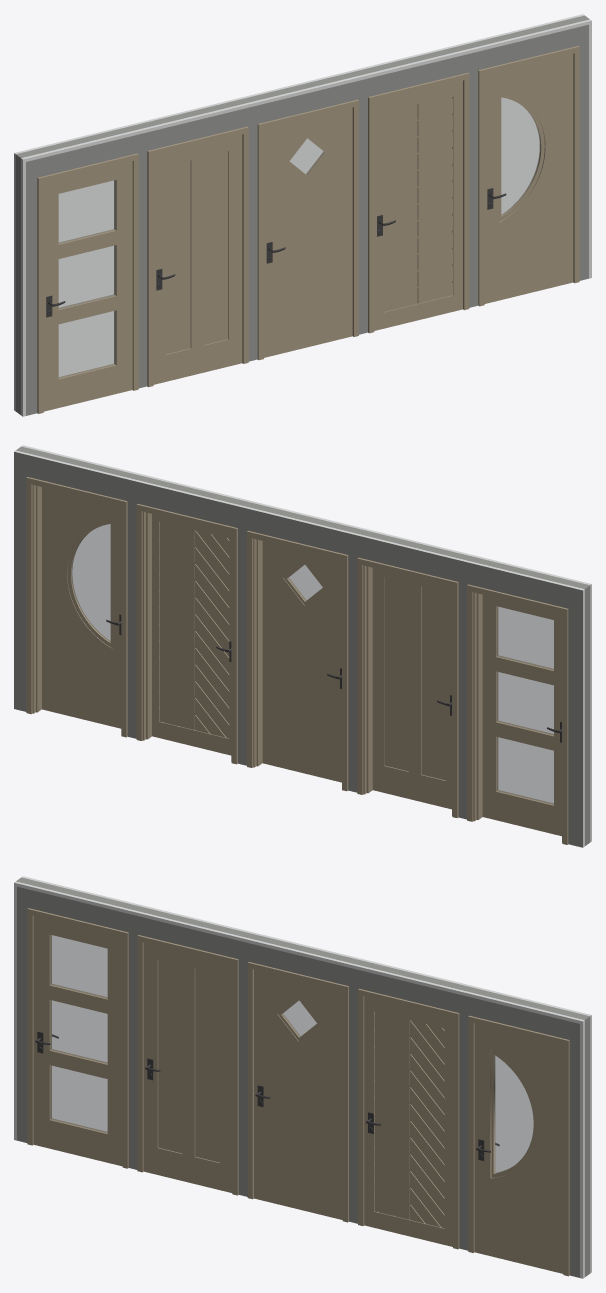
The model's file is MUZEY.fbx.
3 renders of one model, top to bottom at view 1: azimuth 30°, elevation 25°; view 2: azimuth 150°, elevation 25°; view 3: azimuth 330°, elevation 25°, orthographic.
Parts seen in each view (by area): view 1: 15:1:1, 18:19:5, 17:19:5, 20:19:5, 16:24:5, 16:19:5, 19:19:5, 20:20:5, Box001, 19:20:5, 16:20:5, 19:21:5 (+41 smaller); view 2: 15:1:1, 18:19:5, 17:19:5, 20:19:5, 16:24:5, 16:19:5, 20:20:5, 19:19:5, 19:20:5, 19:21:5, 16:20:5, 18:5:5 (+48 smaller); view 3: 15:1:1, 18:19:5, 17:19:5, 20:19:5, 16:24:5, 16:19:5, 19:19:5, 20:20:5, Box001, 19:20:5, 16:20:5, 19:21:5 (+44 smaller).
Boxes of the visible parts, x1=… form: 15:1:1: x1=15, y1=15, x2=589, y2=415; 18:19:5: x1=264, y1=108, x2=351, y2=357; 17:19:5: x1=154, y1=135, x2=240, y2=384; 20:19:5: x1=485, y1=54, x2=571, y2=303; 16:24:5: x1=58, y1=180, x2=115, y2=378; 16:19:5: x1=44, y1=162, x2=130, y2=411; 19:19:5: x1=374, y1=93, x2=461, y2=314; 20:20:5: x1=501, y1=97, x2=540, y2=215; Box001: x1=21, y1=19, x2=591, y2=161; 19:20:5: x1=374, y1=81, x2=461, y2=330; 16:20:5: x1=58, y1=364, x2=116, y2=407; 19:21:5: x1=383, y1=96, x2=452, y2=310; 15:1:1: x1=14, y1=446, x2=590, y2=847; 18:19:5: x1=262, y1=541, x2=341, y2=782; 17:19:5: x1=372, y1=568, x2=451, y2=809; 20:19:5: x1=42, y1=487, x2=121, y2=728; 16:24:5: x1=497, y1=606, x2=553, y2=804; 16:19:5: x1=482, y1=594, x2=561, y2=836; 20:20:5: x1=71, y1=524, x2=110, y2=641; 19:19:5: x1=152, y1=519, x2=231, y2=739; 19:20:5: x1=152, y1=514, x2=231, y2=755; 19:21:5: x1=160, y1=522, x2=229, y2=737; 16:20:5: x1=496, y1=790, x2=553, y2=834; 18:5:5: x1=342, y1=555, x2=348, y2=791; 15:1:1: x1=16, y1=877, x2=590, y2=1277; 18:19:5: x1=255, y1=970, x2=342, y2=1219; 17:19:5: x1=145, y1=943, x2=231, y2=1192; 20:19:5: x1=476, y1=1024, x2=562, y2=1273; 16:24:5: x1=50, y1=935, x2=107, y2=1132; 16:19:5: x1=35, y1=917, x2=121, y2=1166; 19:19:5: x1=366, y1=1009, x2=452, y2=1230; 20:20:5: x1=494, y1=1055, x2=533, y2=1172; Box001: x1=14, y1=881, x2=584, y2=1023; 19:20:5: x1=366, y1=997, x2=452, y2=1246; 16:20:5: x1=49, y1=1118, x2=107, y2=1162; 19:21:5: x1=375, y1=1012, x2=444, y2=1226.
Bounding box in the file's own units: 5532 × 2390 × 240.
